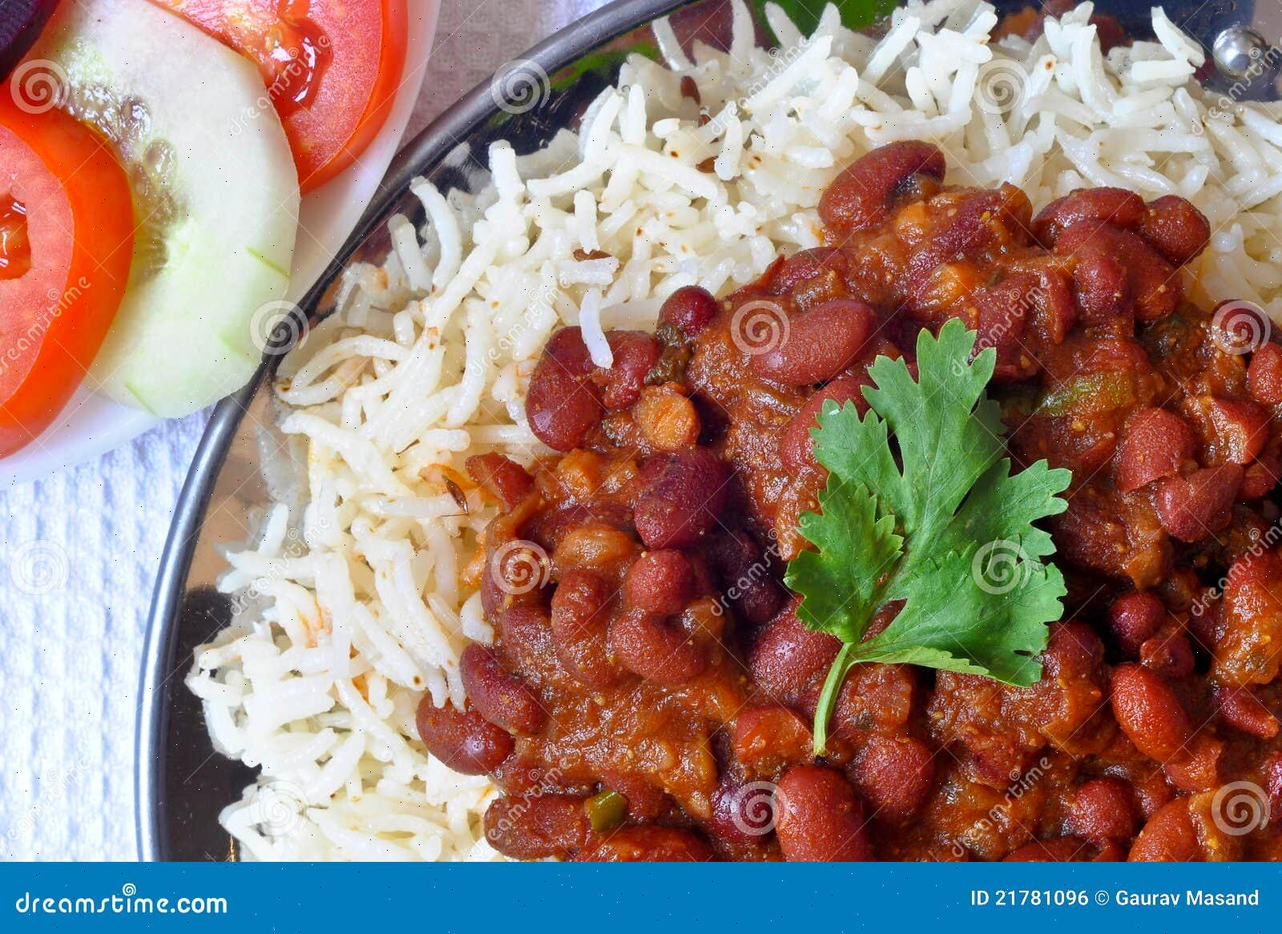rajma: (558, 307, 1282, 820)
